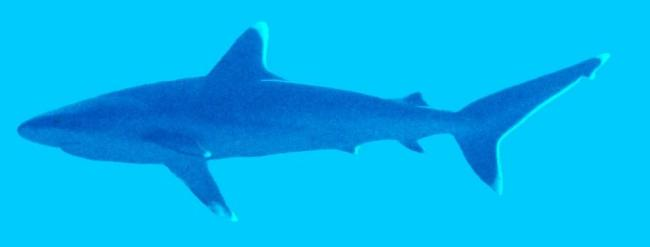fish: (15, 23, 613, 220)
